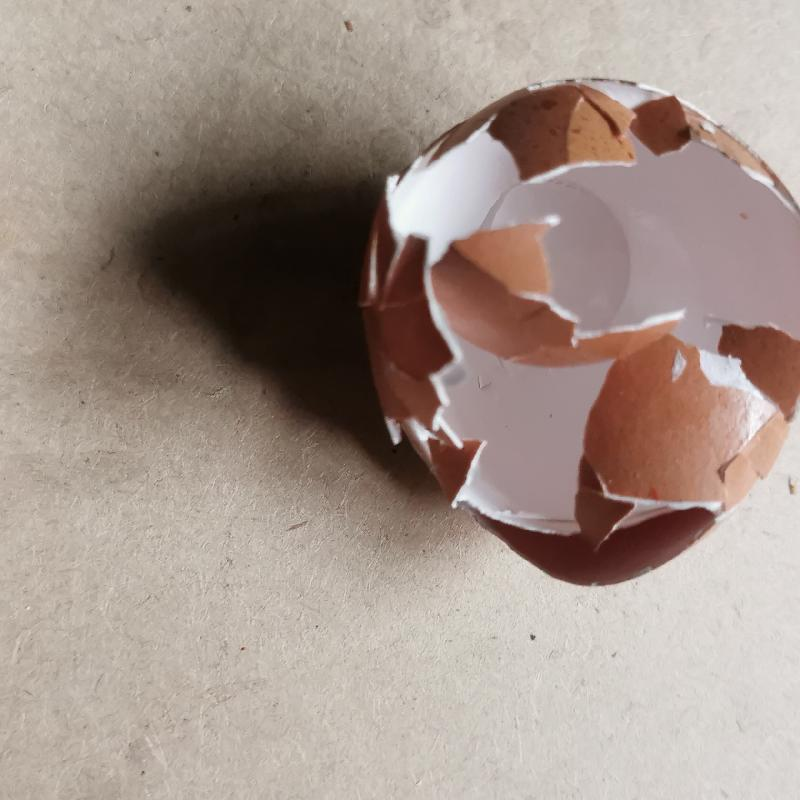eggshell: (357, 75, 800, 591)
